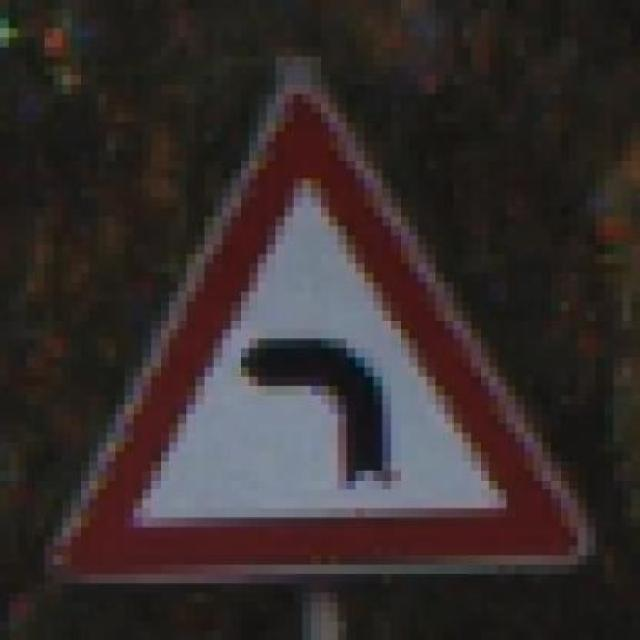Dangerous Left Curve Ahead: (53, 65, 596, 593)
